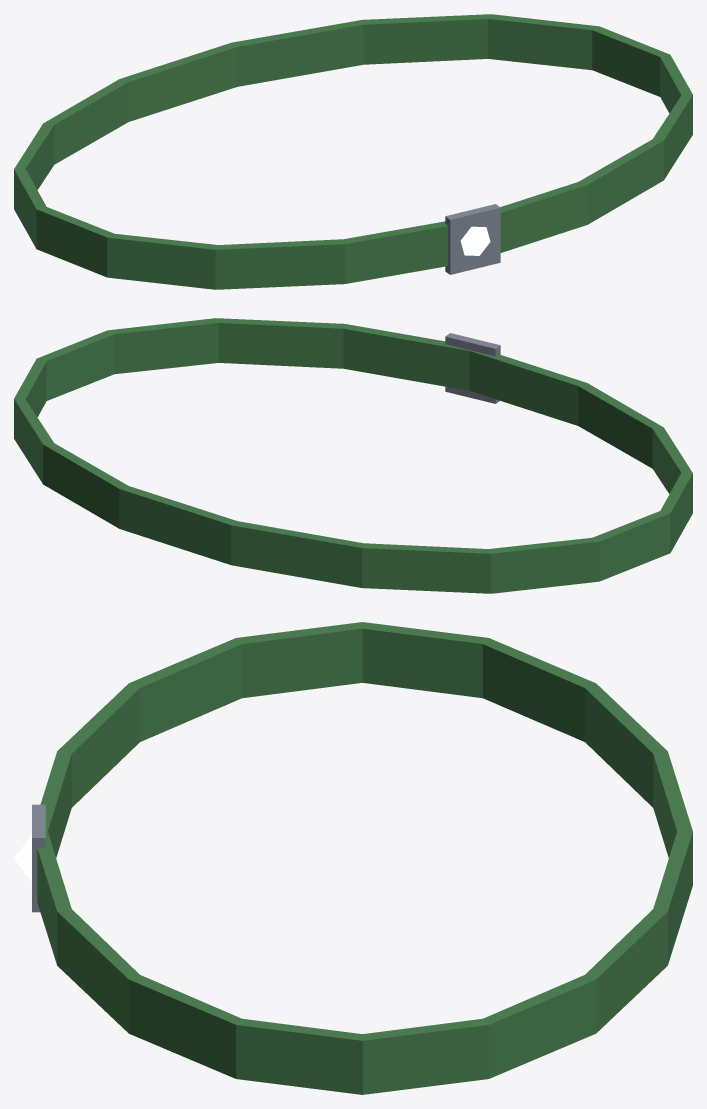
The model's file is armor_lord_head_uncommon_orc.glb.
3 views of the same model, one above another, from view 1: azimuth 30°, elevation 25°; view 2: azimuth 150°, elevation 25°; view 3: azimuth 270°, elevation 25° (orthographic). The views are drawn at different scales.
Parts seen in each view (by area): view 1: armor_lord_head_uncommon_orc__head; view 2: armor_lord_head_uncommon_orc__head; view 3: armor_lord_head_uncommon_orc__head.
Part boxes in pixels (<box>): armor_lord_head_uncommon_orc__head: <box>14,14,692,289</box>; armor_lord_head_uncommon_orc__head: <box>14,318,692,593</box>; armor_lord_head_uncommon_orc__head: <box>14,622,692,1094</box>.
Bounding box in the file's own units: 87.88 × 7.3 × 60.21.
